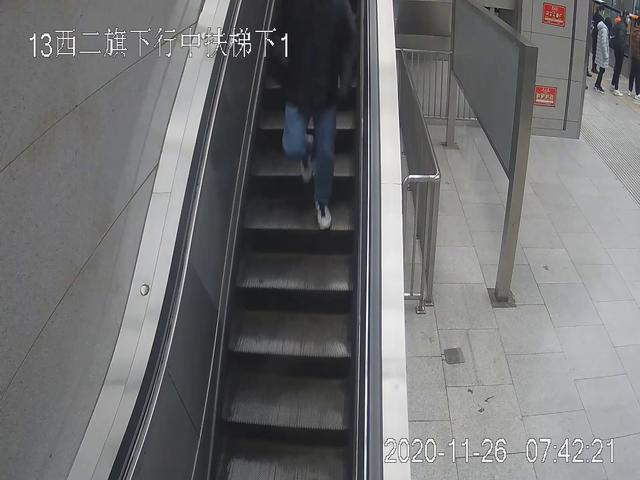person: (271, 1, 357, 227), (612, 13, 628, 92), (595, 17, 609, 92)
